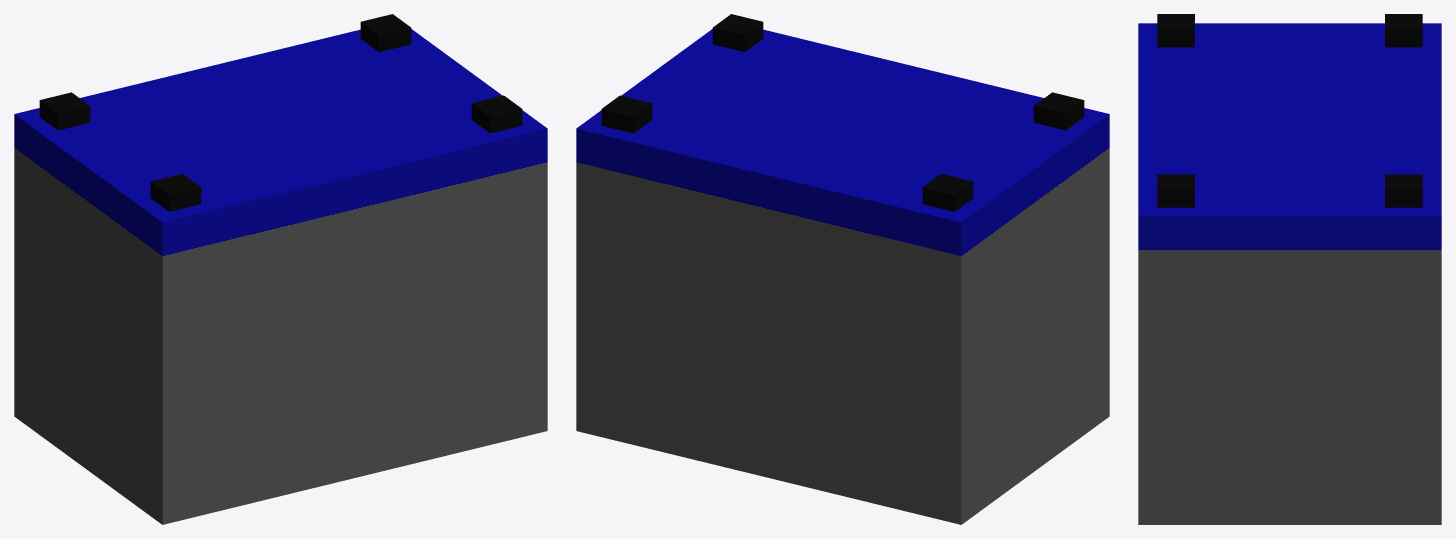
File: PowerPickup.fbx
3 views of the same model, side by side, from view 1: azimuth 30°, elevation 25°; view 2: azimuth 150°, elevation 25°; view 3: azimuth 270°, elevation 25° (orthographic). The views are drawn at different scales.
Visible parts, largest first — view 1: Matrix; view 2: Matrix; view 3: Matrix.
Part boxes in pixels (x1,y1,x2,y2): Matrix: (14, 14, 547, 524); Matrix: (576, 14, 1109, 524); Matrix: (1138, 14, 1441, 524).
Bounding box in the file's own units: 24 × 19 × 16.
Materials: 1 (1 with a texture image).
